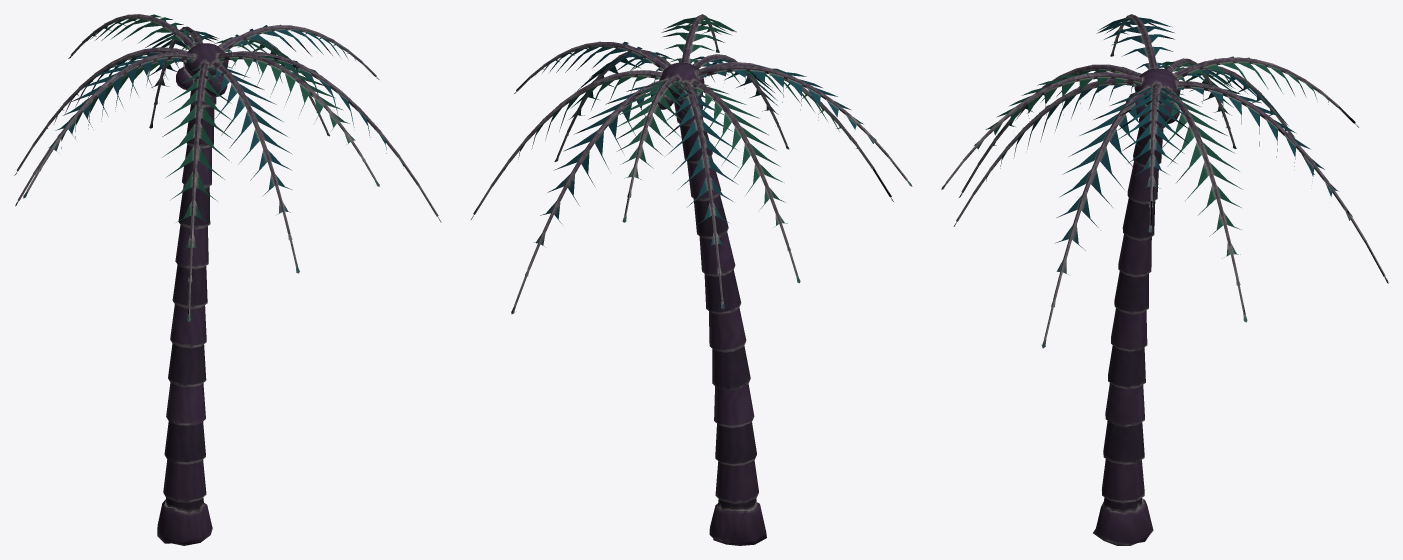
File: rn_palm_tree.glb
3 views of the same model, side by side, from view 1: azimuth 30°, elevation 25°; view 2: azimuth 150°, elevation 25°; view 3: azimuth 270°, elevation 25° (orthographic). The views are drawn at different scales.
Visible parts, largest first — view 1: rn_palm_tree; view 2: rn_palm_tree; view 3: rn_palm_tree.
Part boxes in pixels (<box>): rn_palm_tree: <box>14,14,441,545</box>; rn_palm_tree: <box>471,14,912,545</box>; rn_palm_tree: <box>941,14,1388,545</box>.
Size of the model in its own units: 6.31 by 7.49 by 6.14.
Materials: 4 (4 with a texture image).
